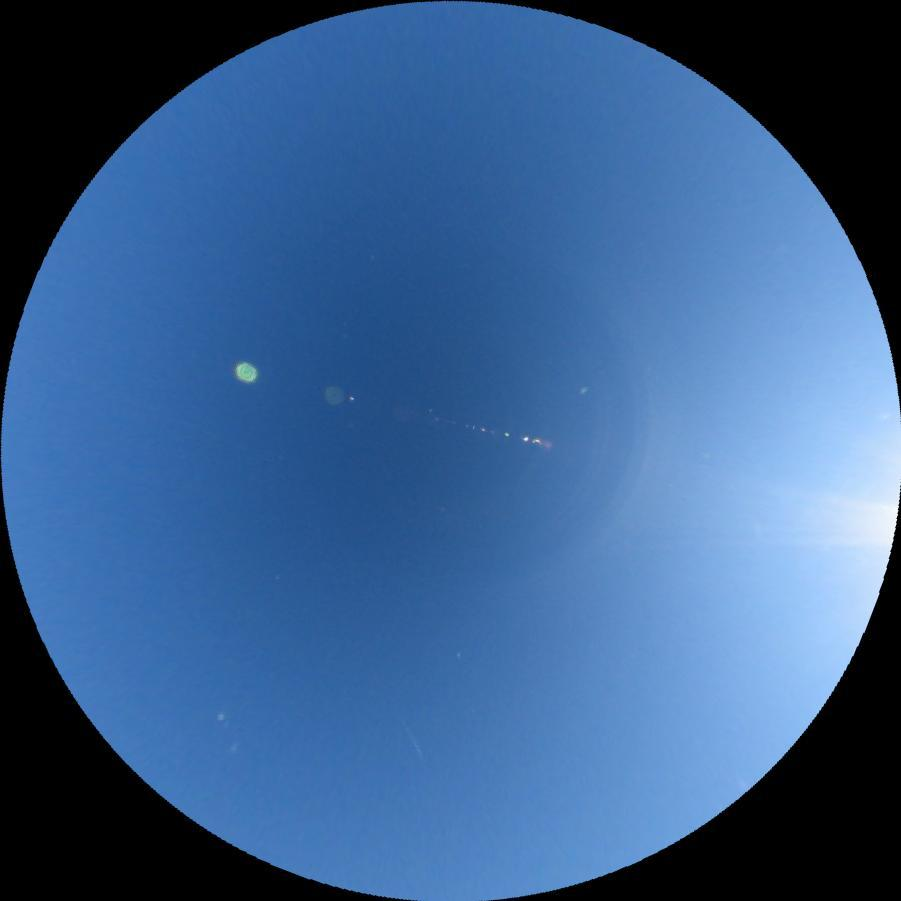contrail young: (395, 709, 424, 760)
